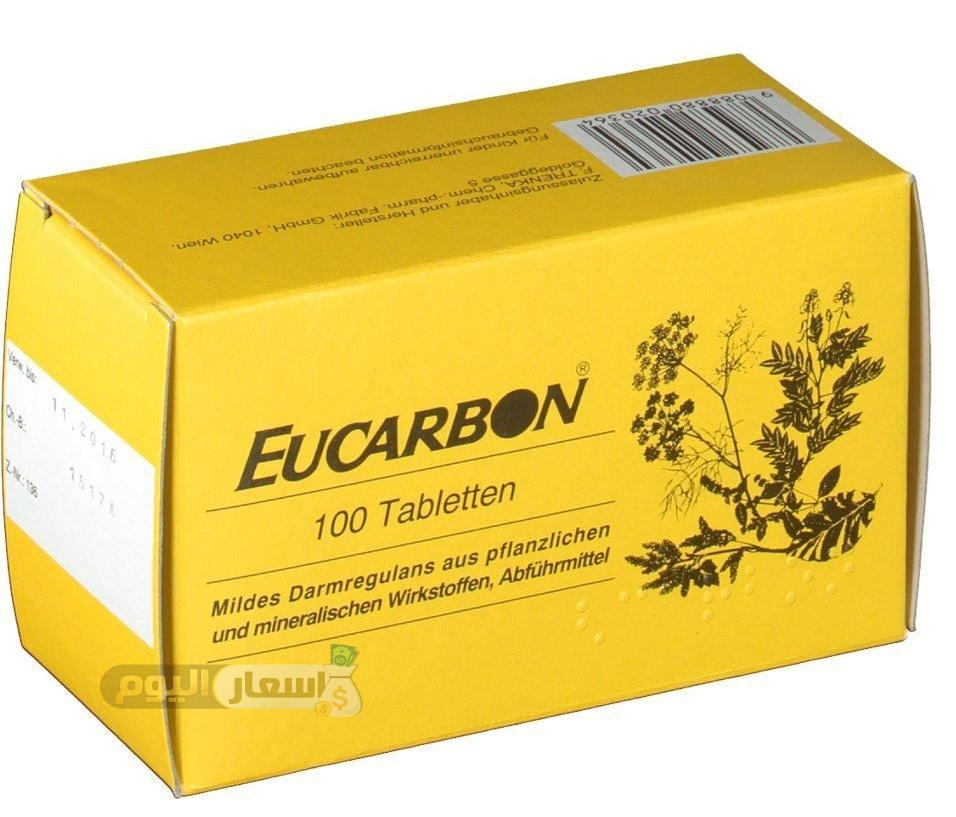Medicine: (7, 53, 956, 810)
